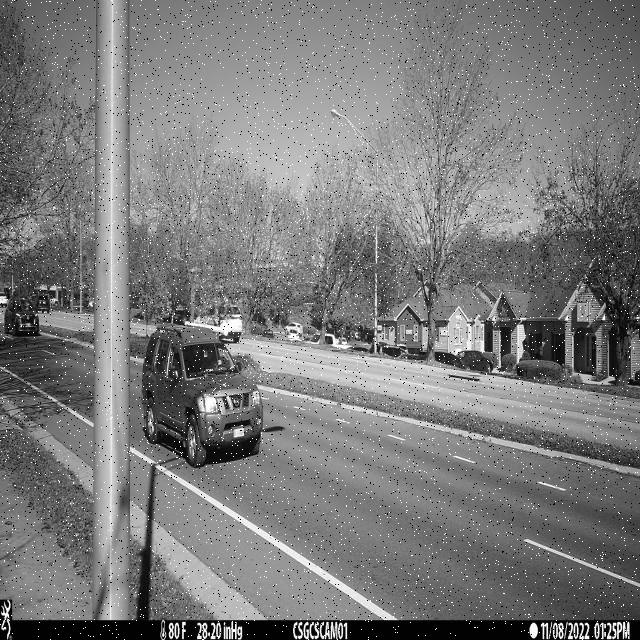SUV: (142, 325, 263, 469)
